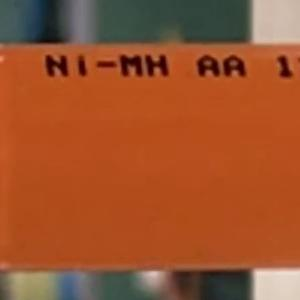keyword: (36, 45, 178, 86)
